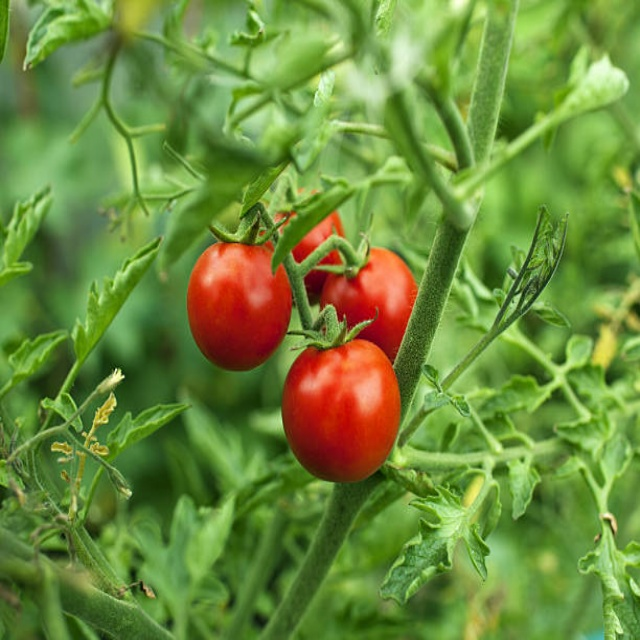tomato: (287, 347, 403, 481), (247, 180, 360, 296), (193, 246, 289, 360), (328, 248, 429, 354)
